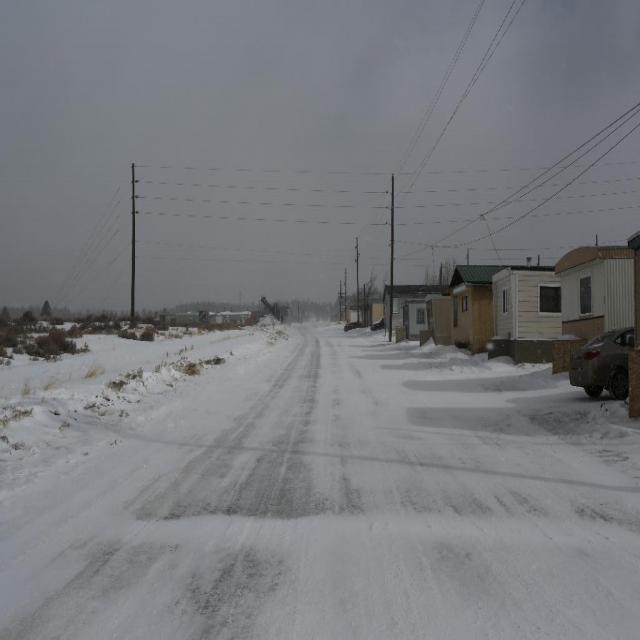other: (567, 325, 635, 399)
